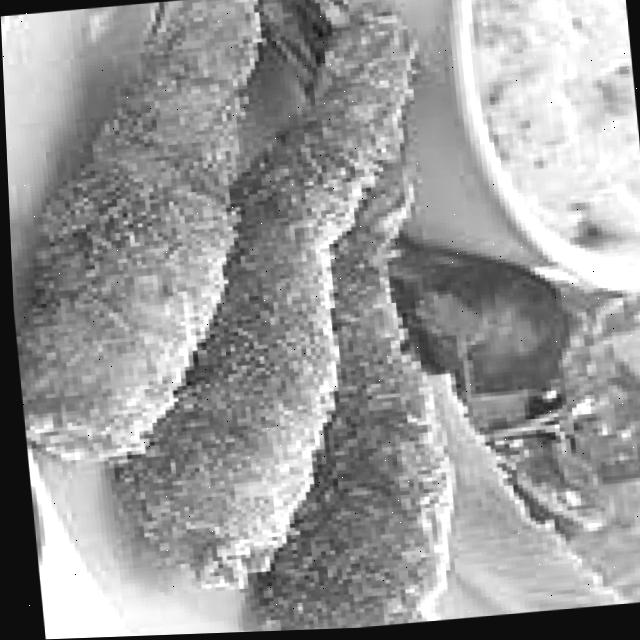炸货点心: (0, 0, 528, 640)
熟制海鲜: (0, 0, 528, 640)
